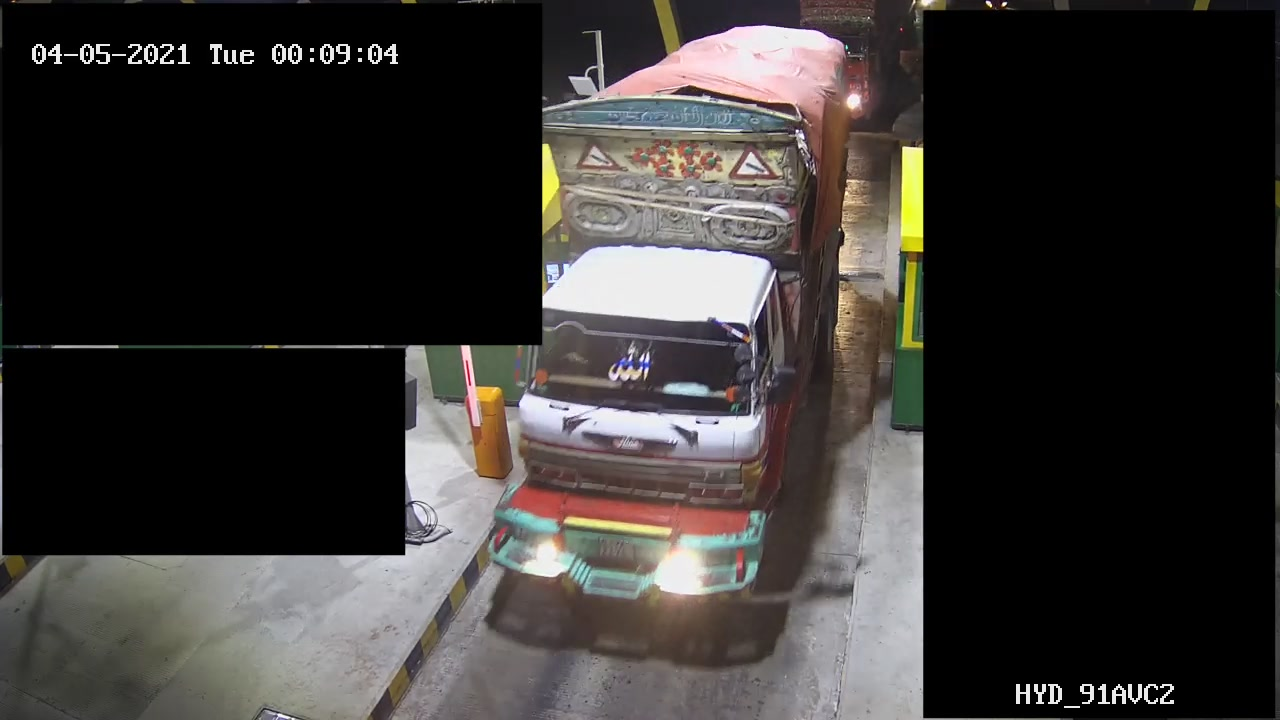F5: (479, 26, 864, 617)
